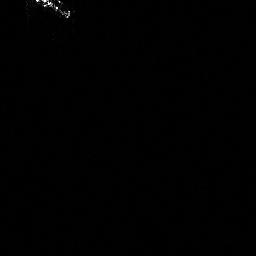ship: (30, 1, 72, 20)
